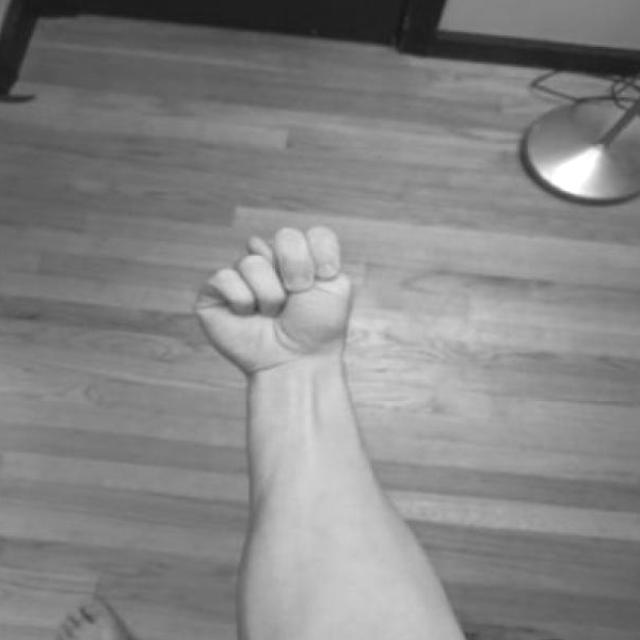N: (198, 223, 357, 373)
